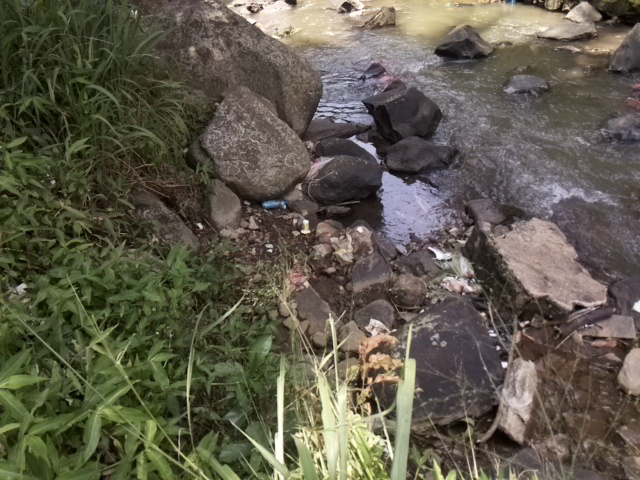Sampah_Botol_Plastik: (263, 198, 292, 210)
Sampah_Plastik: (427, 242, 485, 291), (304, 155, 336, 181)
Sampah_Styrofoam: (300, 220, 312, 235)
